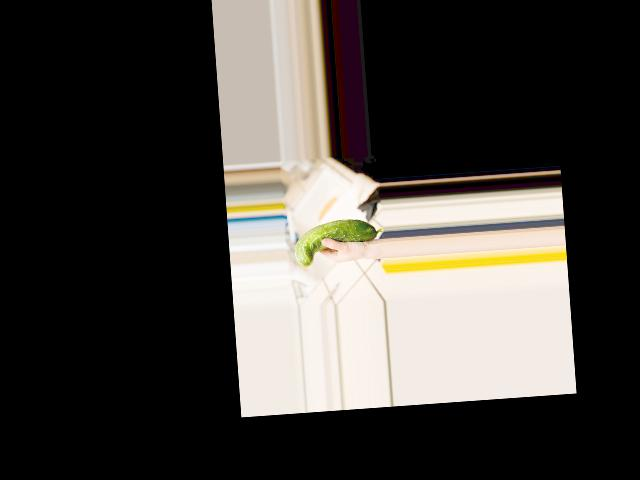cucumber: (292, 216, 384, 267)
